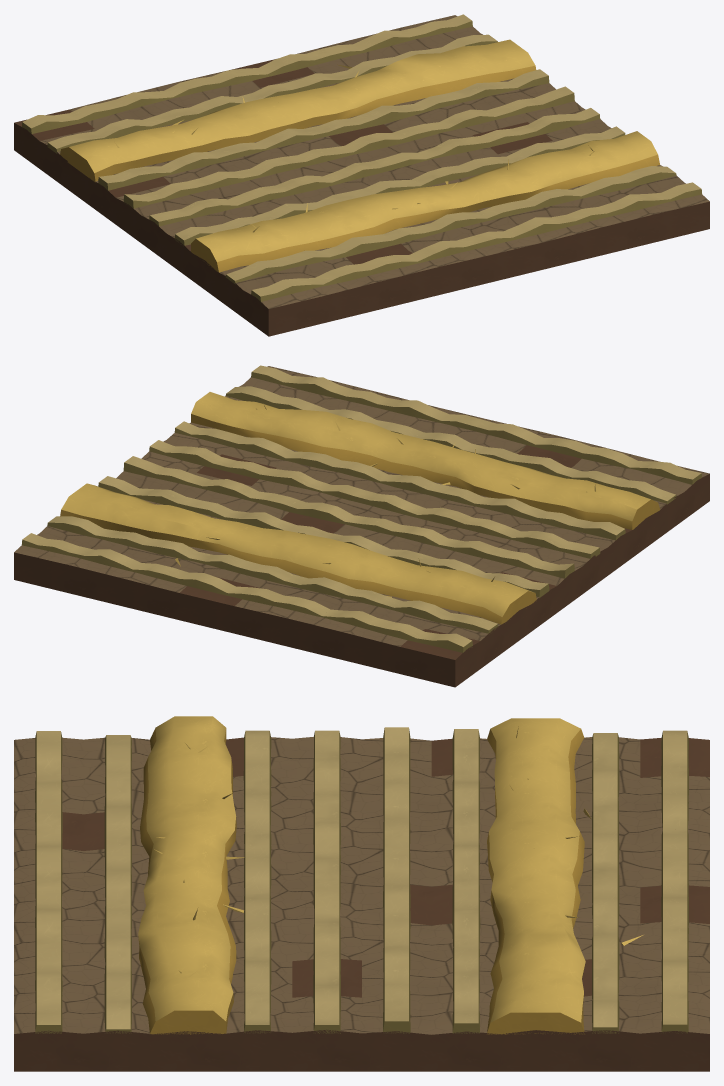
Rendered from field_stubble.glb.
3 views of the same model, one above another, from view 1: azimuth 30°, elevation 25°; view 2: azimuth 150°, elevation 25°; view 3: azimuth 270°, elevation 25° (orthographic). The views are drawn at different scales.
Visible parts, largest first — view 1: field_stubble; view 2: field_stubble; view 3: field_stubble.
Part boxes in pixels (left/top/right/bottom): field_stubble: left=14, top=14, right=709, bottom=336; field_stubble: left=14, top=365, right=709, bottom=687; field_stubble: left=14, top=716, right=709, bottom=1071.
Bounding box in the file's own units: 8 × 0.9561 × 8.
Materials: 6 (6 with a texture image).
